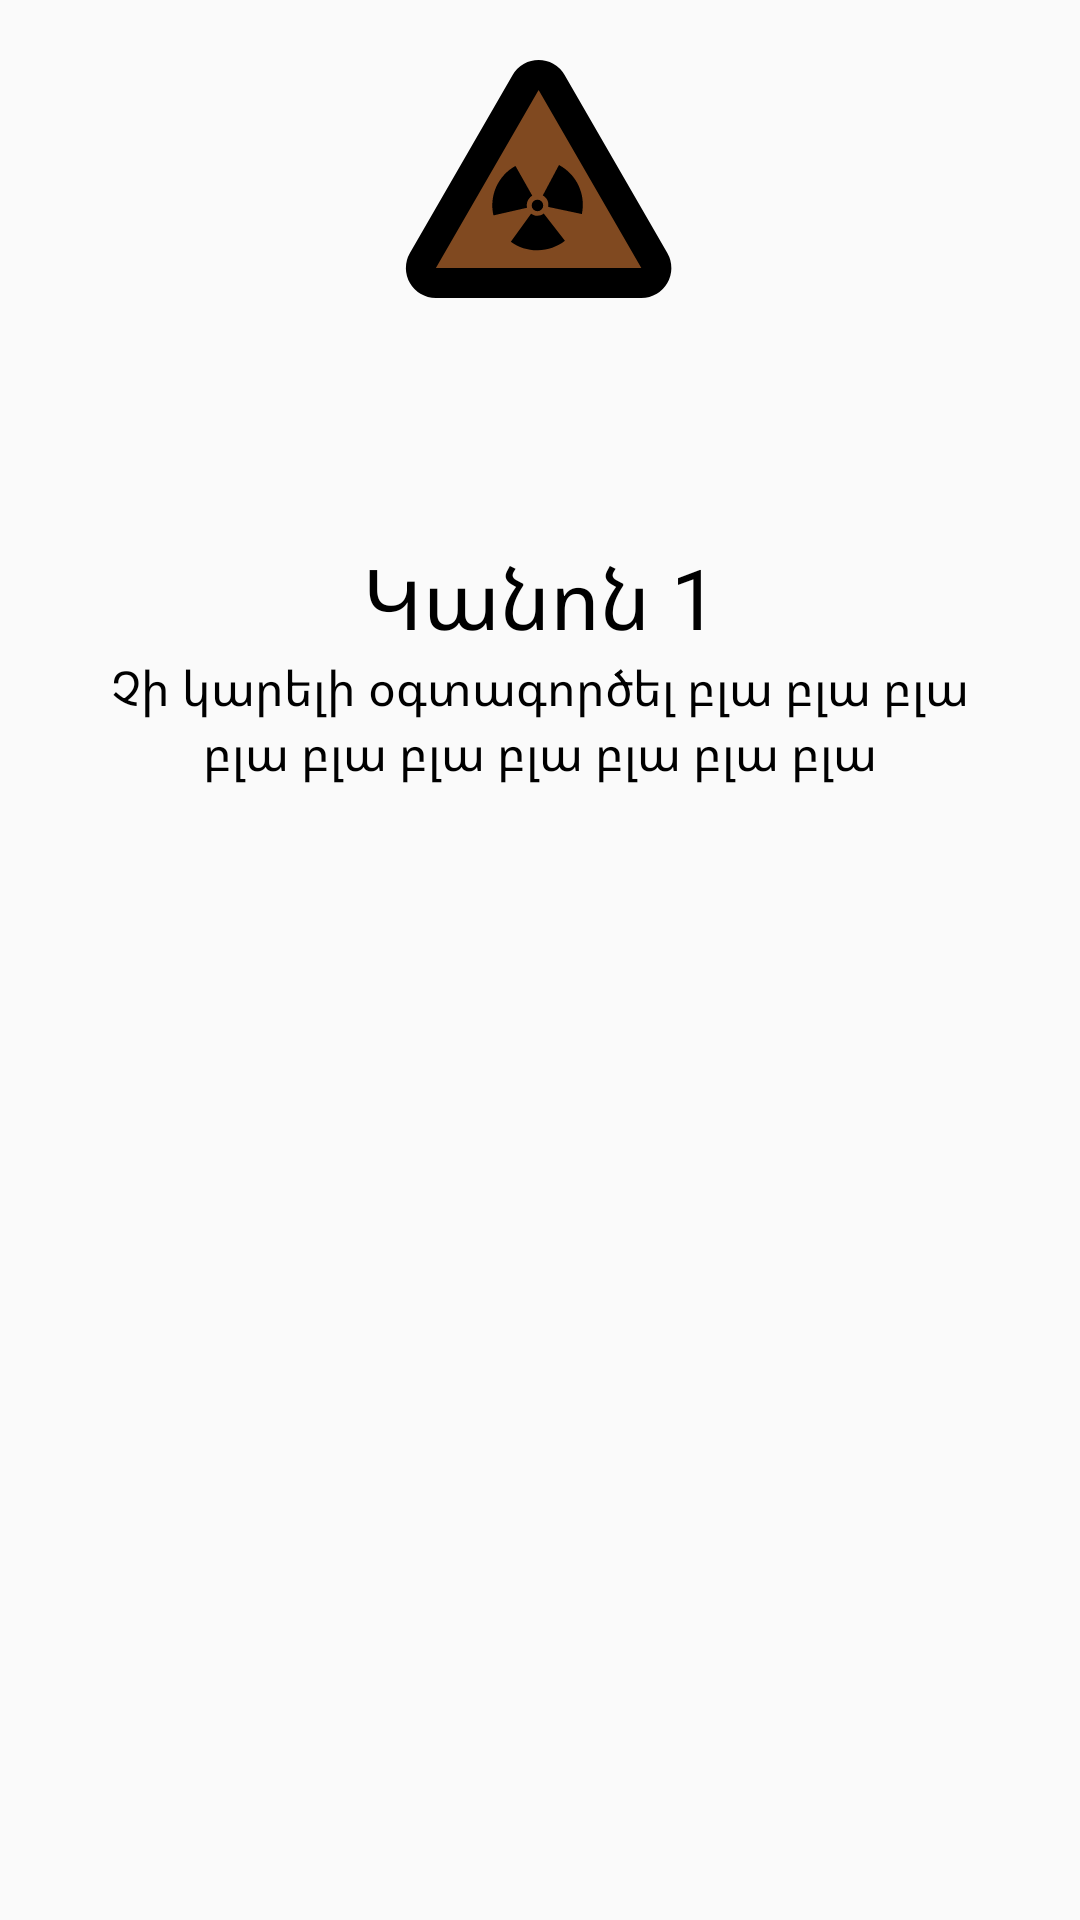

Icons on this 1080px x 1920px Android screen, each with the point to tap as (x,y):
danger: (538,179)
